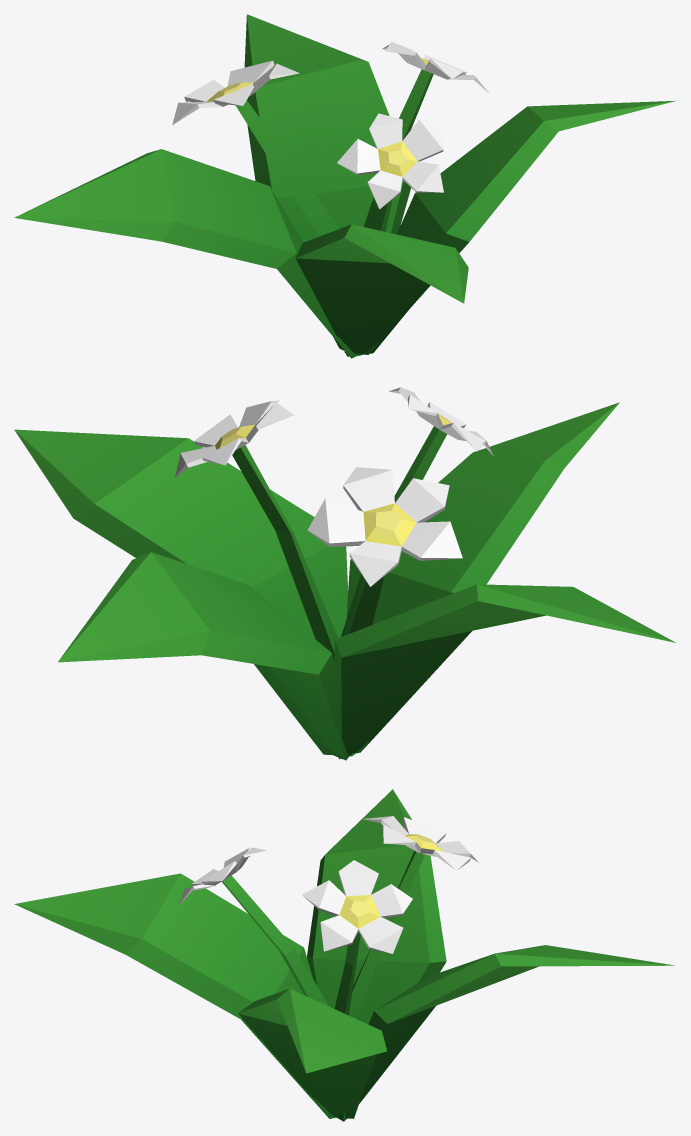
Rendered from Flower_bush_white1.fbx.
3 renders of one model, top to bottom at view 1: azimuth 30°, elevation 25°; view 2: azimuth 150°, elevation 25°; view 3: azimuth 270°, elevation 25°, orthographic. The views are drawn at different scales.
Visible parts, largest first — view 1: Flower_bush_white; view 2: Flower_bush_white; view 3: Flower_bush_white.
Boxes of the visible parts, left/top/right/bottom form: Flower_bush_white: left=14, top=14, right=676, bottom=358; Flower_bush_white: left=14, top=387, right=675, bottom=760; Flower_bush_white: left=14, top=789, right=674, bottom=1121.
Size of the model in its own units: 141 by 62.49 by 139.
